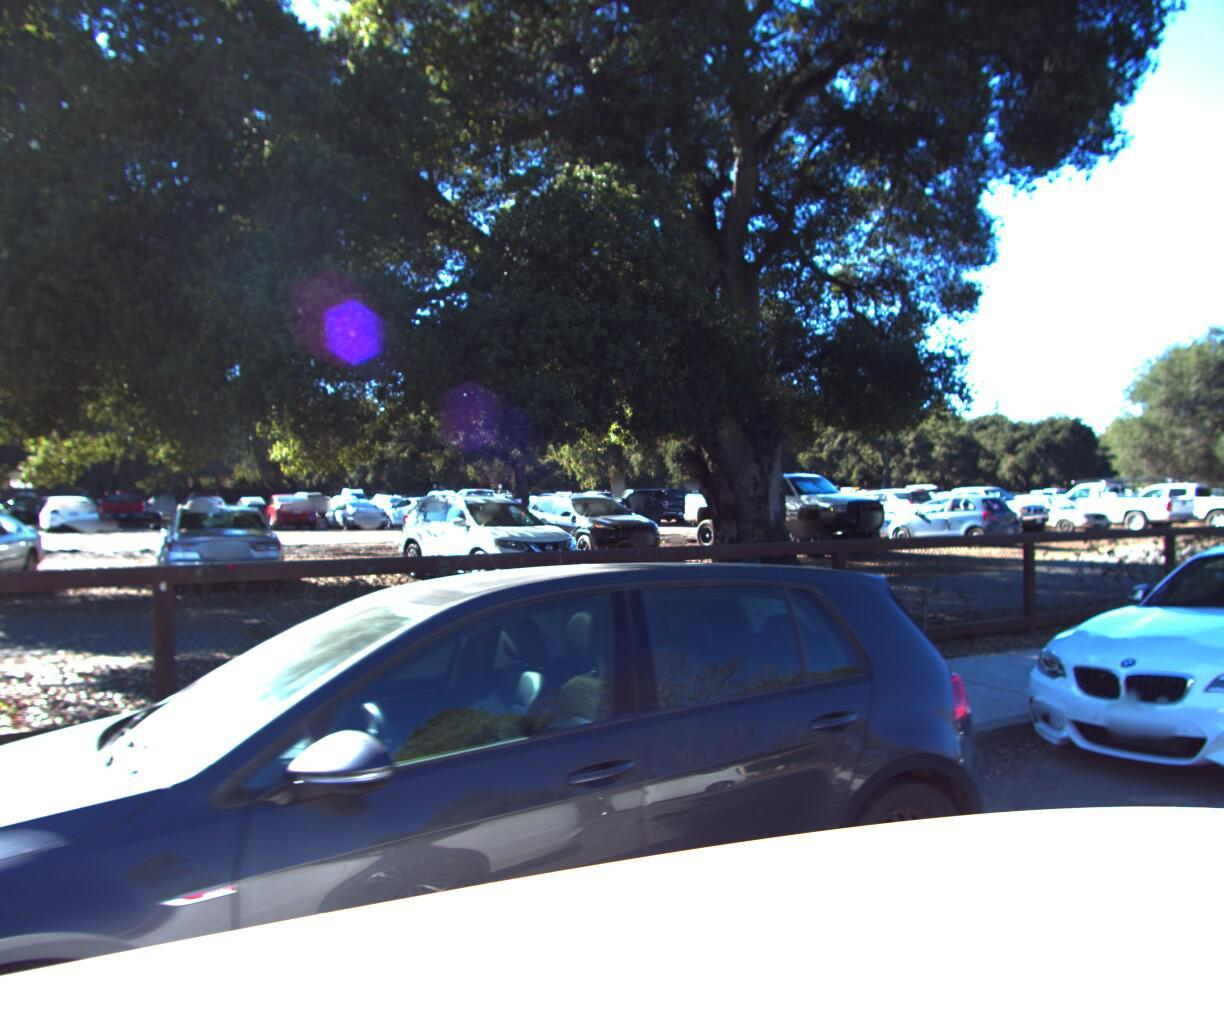car: (0, 533, 1063, 1024), (1002, 521, 1224, 836), (382, 486, 600, 594)
